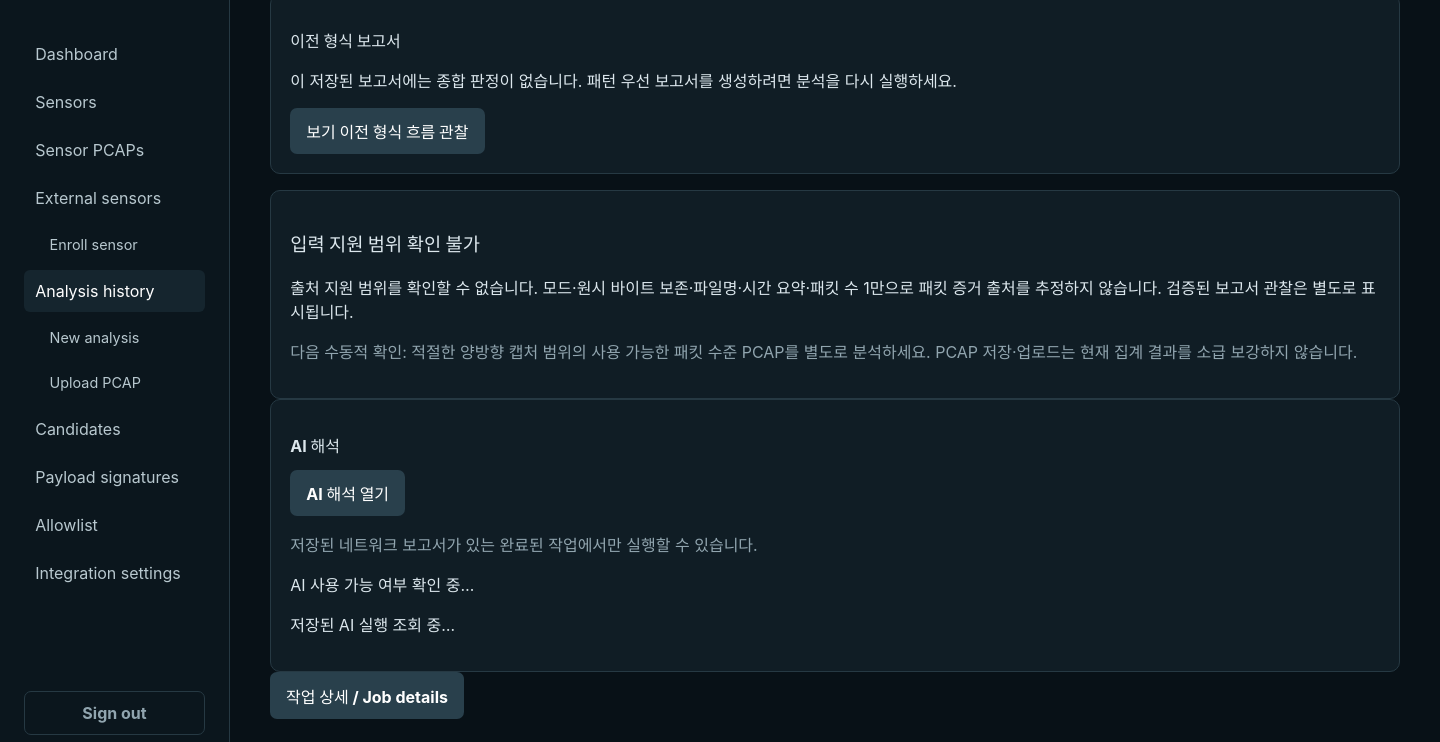
Test: does not start inference for ANALYZING jobs
The width and height of the screenshot is (1440, 742).
(page scrolled)
Click the button "AI 해석 열기" at (348, 493), box [290,470,405,516]
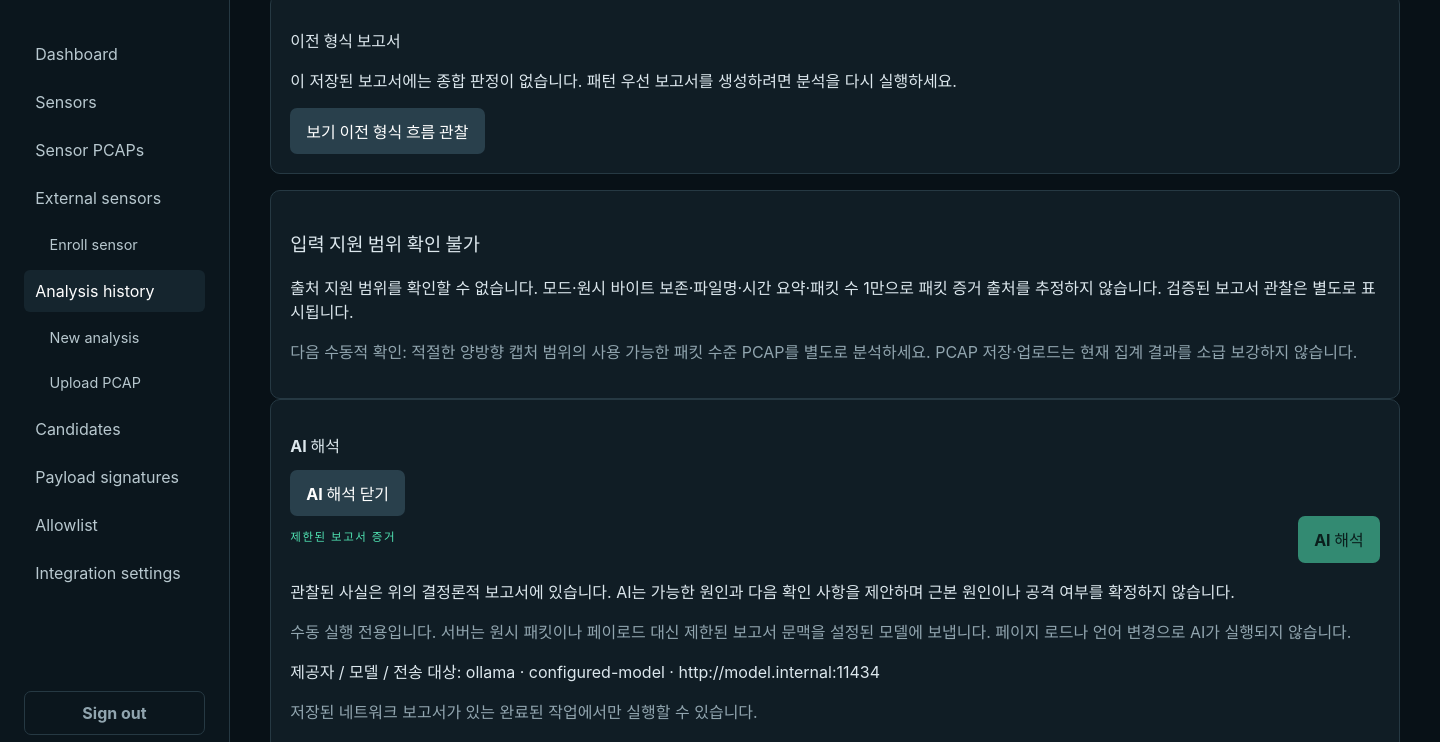
Check: the button "AI 해석" is disabled, box [1298,516,1380,563]
